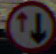Two way: (7, 4, 47, 45)
